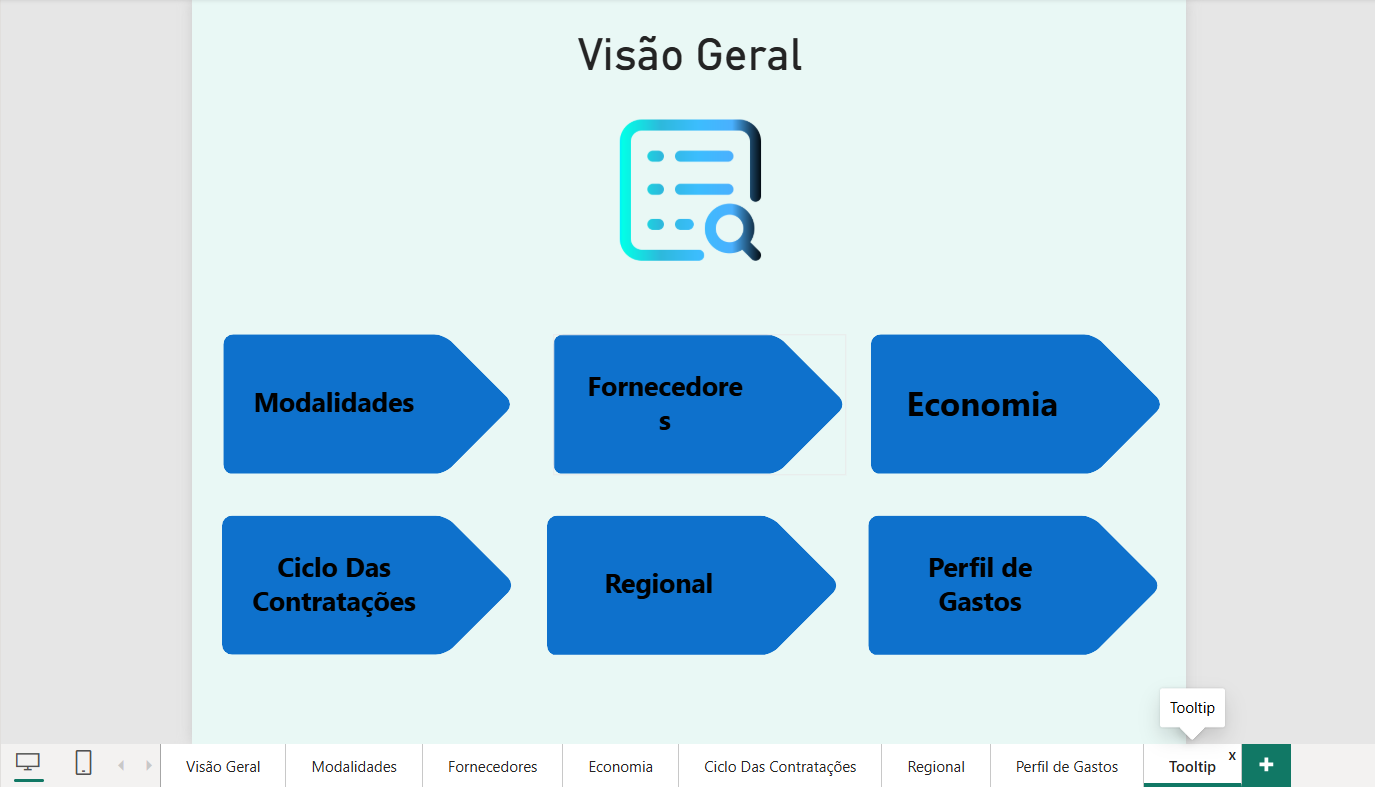

The page's visual inventory and layout, read from the dashboard file:
{"tool":"powerbi","page":{"name":"Tooltip","canvas":[400,300],"ordinal":0},"visuals":[{"type":"actionButton","box":[12.7,135.5,117,56.4],"z":0},{"type":"actionButton","box":[145.5,135.5,118,56.4],"z":1000},{"type":"actionButton","box":[272.7,135.5,118,56.4],"z":2000},{"type":"actionButton","box":[11.8,208.2,118,56],"z":3000},{"type":"actionButton","box":[142.7,208.2,118,56.4],"z":4000},{"type":"actionButton","box":[271.8,208.2,118,56.4],"z":5000},{"type":"image","title":"Visão Geral","box":[139.1,11.8,121.8,93.6],"z":6000}]}

Visuals, with their boxes on the page's 400x300 design canvas (x1, y1, x2, y2). These are canvas units, not pixel positions in the 1375x787 screenshot, which may show the page scaled, cropped or inside an application window:
actionButton: 13/136/130/192
actionButton: 146/136/264/192
actionButton: 273/136/391/192
actionButton: 12/208/130/264
actionButton: 143/208/261/265
actionButton: 272/208/390/265
"Visão Geral" image: 139/12/261/105
